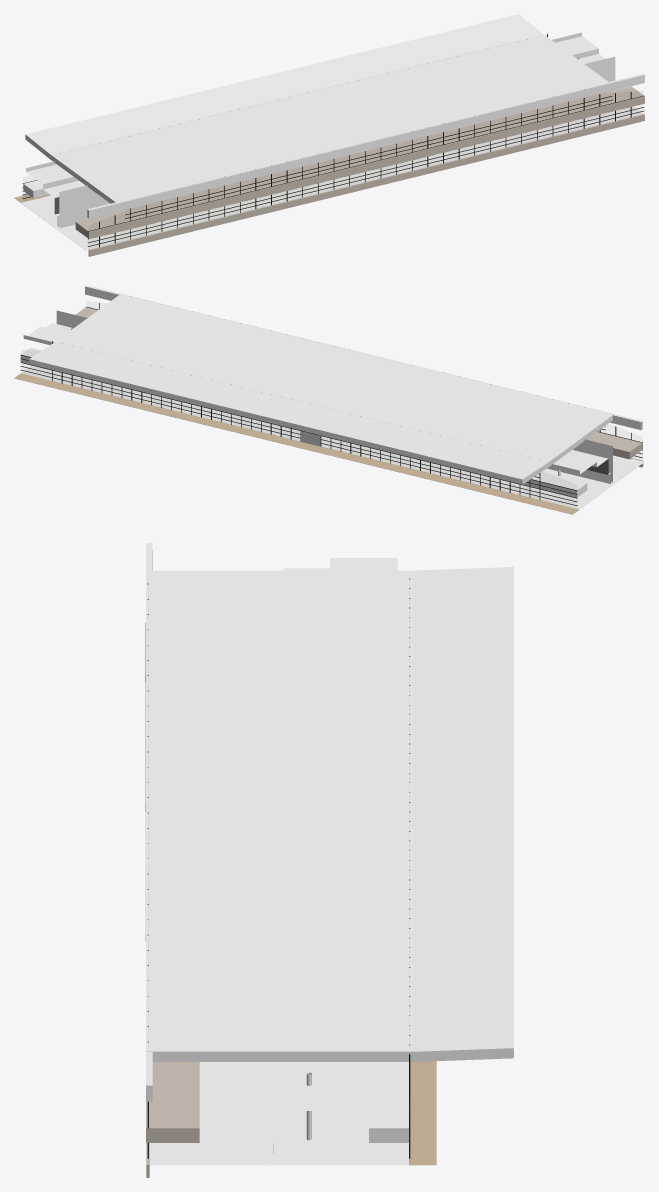
The model's file is connector_new.gltf.
The picture shows the model from 3 angles, top to bottom: view 1: azimuth 30°, elevation 25°; view 2: azimuth 150°, elevation 25°; view 3: azimuth 270°, elevation 25°; orthographic projection. The views are drawn at different scales.
Visible parts, largest first — view 1: Cube.009, Bottom Conc Bar.006, Floor, Bottom Conc Bar.005, Bottom Conc Bar.004, Wall, Cube.015, Cube.013; view 2: Cube.009, Floor, Wall, Cube.012, Bottom Conc Bar.007, Bottom Conc Bar.005, Bottom Conc Bar.006, Cube.008; view 3: Cube.009, Floor, Wall, Bottom Conc Bar.006, Bottom Conc Bar.007, Bottom Conc Bar.005.
Boxes of the visible parts, box(x1,y1,x2,y2) form: Cube.009: box(25, 14, 609, 203); Bottom Conc Bar.006: box(75, 86, 644, 238); Floor: box(14, 106, 643, 250); Bottom Conc Bar.005: box(87, 73, 644, 218); Bottom Conc Bar.004: box(88, 114, 644, 256); Wall: box(26, 32, 615, 228); Cube.015: box(88, 95, 644, 246); Cube.013: box(99, 89, 631, 247); Cube.009: box(29, 294, 613, 484); Floor: box(14, 365, 644, 514); Wall: box(23, 310, 612, 483); Cube.012: box(20, 354, 577, 505); Bottom Conc Bar.007: box(20, 347, 587, 497); Bottom Conc Bar.005: box(85, 285, 642, 429); Bottom Conc Bar.006: box(75, 306, 642, 459); Cube.008: box(52, 341, 540, 499); Cube.009: box(147, 567, 513, 1061); Floor: box(149, 1061, 436, 1165); Wall: box(265, 558, 397, 1165); Bottom Conc Bar.006: box(146, 1062, 199, 1142); Bottom Conc Bar.007: box(369, 1062, 408, 1142); Bottom Conc Bar.005: box(146, 543, 152, 1101).
Bounding box in the file's own units: 193 × 17.51 × 55.17.
